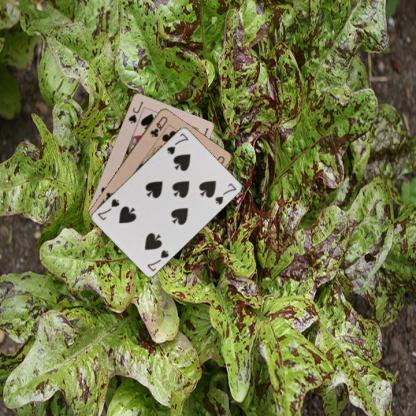7s: (164, 130, 190, 155), (144, 247, 170, 272)
Js: (126, 99, 144, 125)
Qc: (147, 113, 169, 138)
